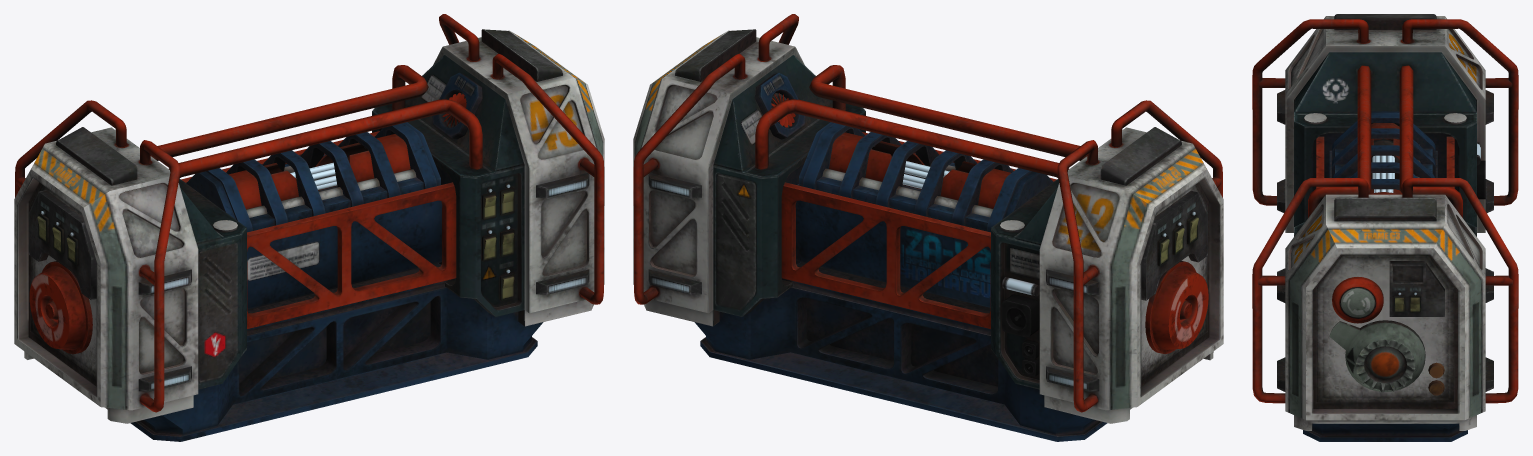
File: ark.dae
3 views of the same model, side by side, from view 1: azimuth 30°, elevation 25°; view 2: azimuth 150°, elevation 25°; view 3: azimuth 270°, elevation 25° (orthographic). The views are drawn at different scales.
Visible parts, largest first — view 1: ark, rods; view 2: ark, rods; view 3: ark, rods.
Part boxes in pixels (bbox=[...]): ark: bbox=[14, 14, 604, 441]; rods: bbox=[290, 162, 337, 189]; ark: bbox=[633, 14, 1223, 441]; rods: bbox=[902, 161, 949, 188]; ark: bbox=[1252, 14, 1518, 441]; rods: bbox=[1372, 155, 1394, 192].
Bounding box in the file's own units: 1.14 × 0.5863 × 0.5405.
